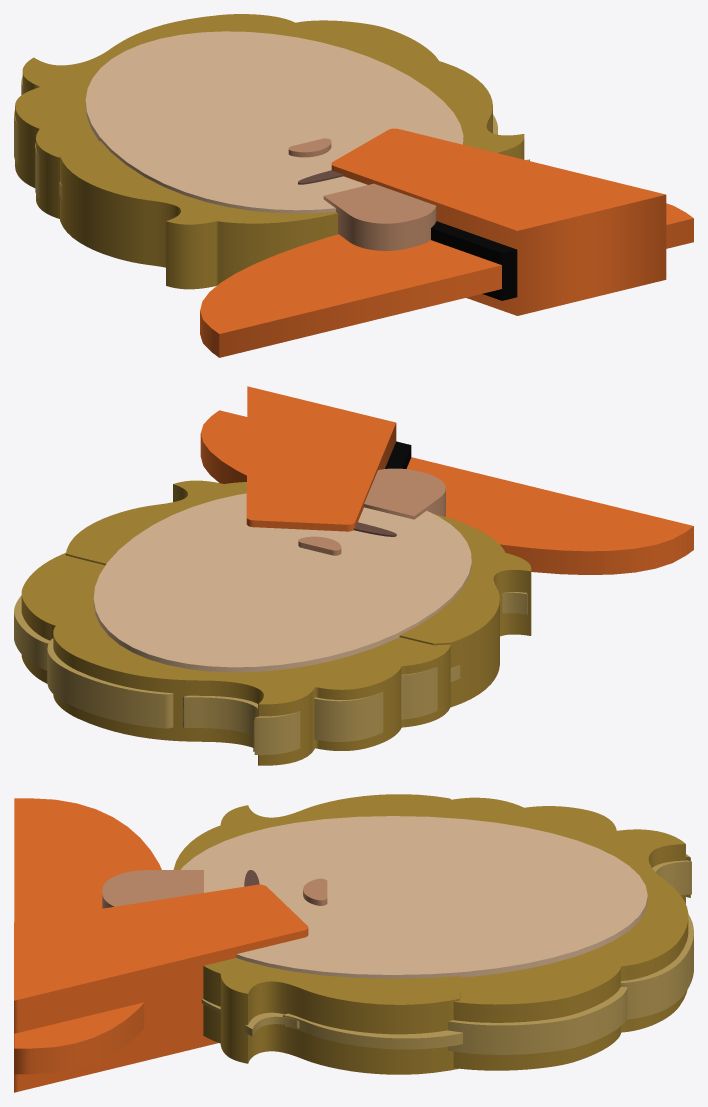
File: emoji_u1f926_1f3fc.glb
The picture shows the model from 3 angles, top to bottom: view 1: azimuth 30°, elevation 25°; view 2: azimuth 150°, elevation 25°; view 3: azimuth 270°, elevation 25°; orthographic projection. The views are drawn at different scales.
Visible parts, largest first — view 1: emoji_u1f926_1f3fc; view 2: emoji_u1f926_1f3fc; view 3: emoji_u1f926_1f3fc.
Part boxes in pixels (bbox=[...]): emoji_u1f926_1f3fc: bbox=[14, 14, 693, 357]; emoji_u1f926_1f3fc: bbox=[14, 386, 693, 765]; emoji_u1f926_1f3fc: bbox=[14, 794, 693, 1092].
Size of the model in its own units: 0.0292 by 0.005 by 0.0335.
